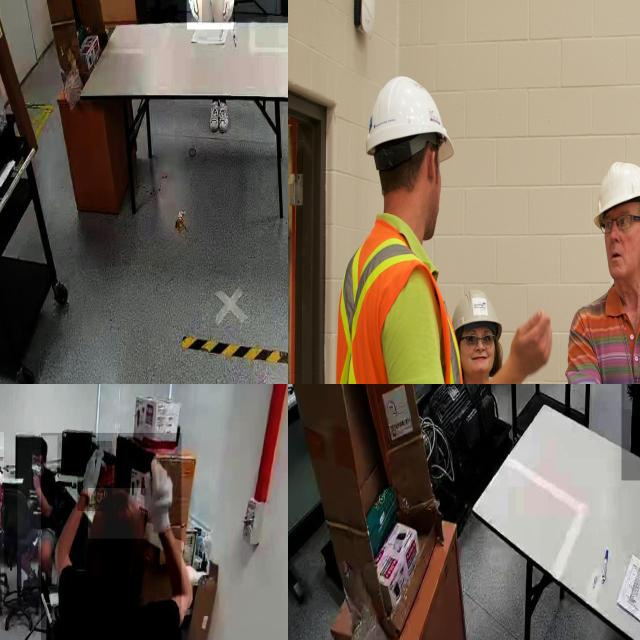No_Ear-Protection: (372, 81, 447, 241), (599, 159, 640, 280), (454, 286, 499, 384)
hand_glove: (141, 454, 180, 550), (78, 441, 112, 511), (221, 0, 237, 26), (185, 0, 202, 24), (624, 384, 638, 410)
hand_noglove: (32, 469, 40, 489)
head_nohelmet: (88, 488, 145, 540), (32, 434, 47, 450)
person: (41, 433, 182, 640), (18, 436, 58, 588)
shoes: (216, 99, 230, 135), (208, 100, 220, 135)
